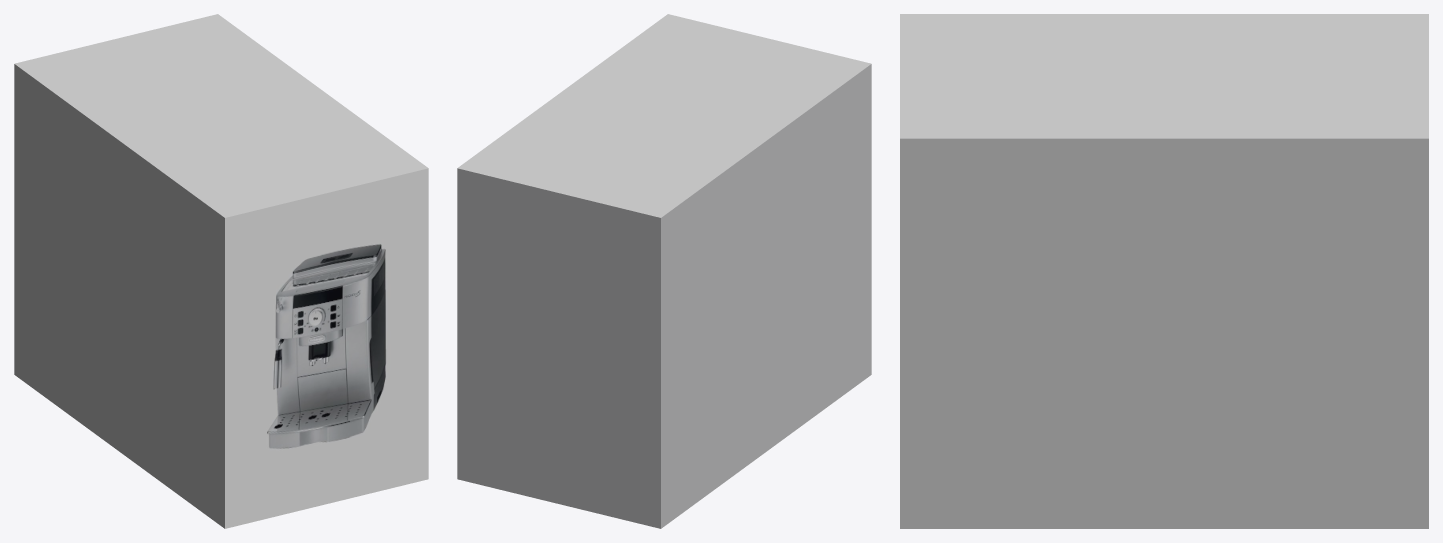
3 renders of one model, left to right at view 1: azimuth 30°, elevation 25°; view 2: azimuth 150°, elevation 25°; view 3: azimuth 270°, elevation 25°, orthographic. The views are drawn at different scales.
Parts seen in each view (by area): view 1: product; view 2: product; view 3: product.
Boxes of the visible parts, x1,y1,x2,y2 form: product: [14, 14, 428, 528]; product: [457, 14, 871, 528]; product: [900, 14, 1428, 528].
Bounding box in the file's own units: 0.24 × 0.35 × 0.43.
Materials: 2 (1 with a texture image).
